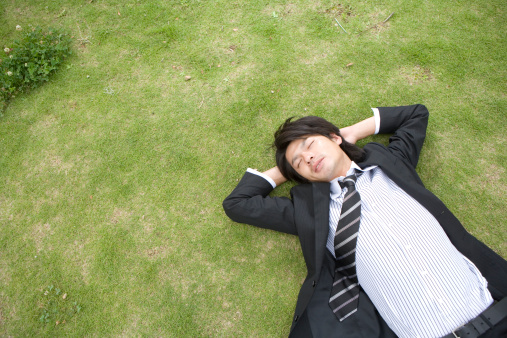deitado: (192, 90, 497, 338)
